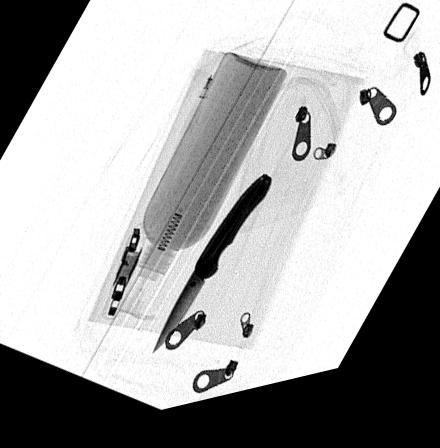Knife: (150, 185, 271, 361)
